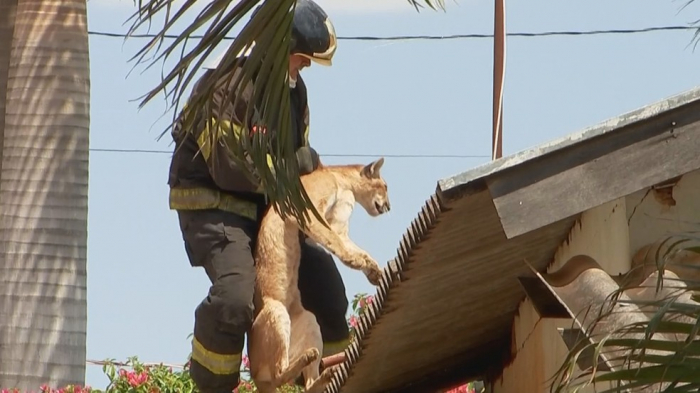OncaParda: (244, 155, 395, 392)
